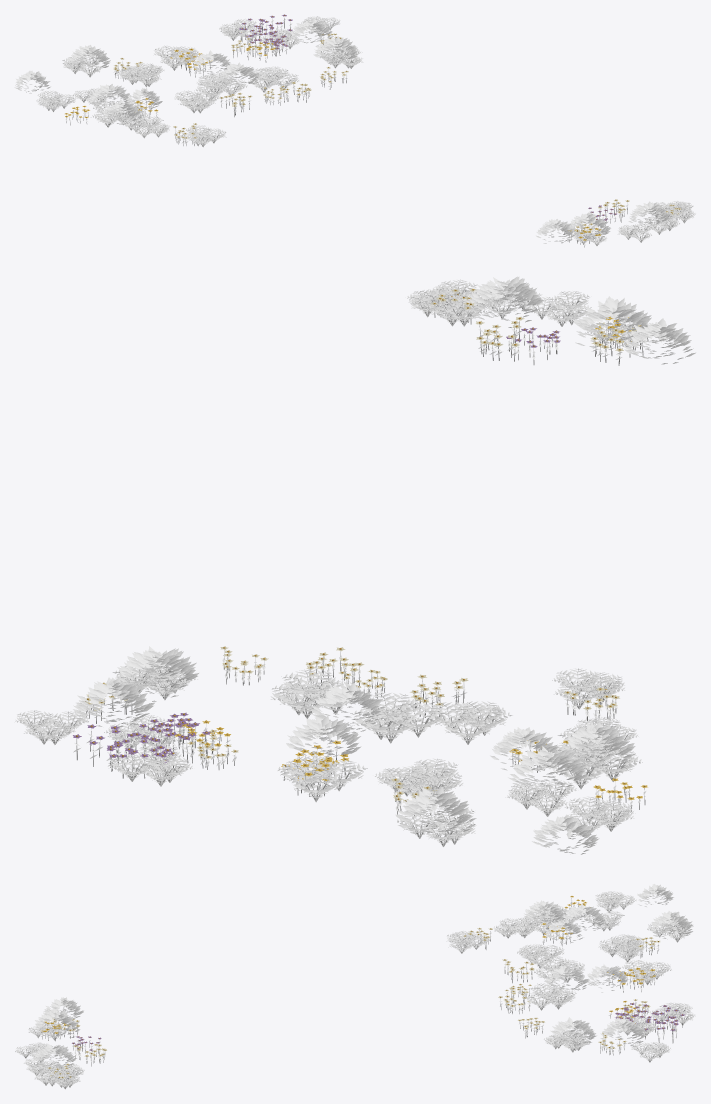
The model's file is SM_NW_Nature_1_3_Flora.fbx.
3 renders of one model, top to bottom at view 1: azimuth 30°, elevation 25°; view 2: azimuth 150°, elevation 25°; view 3: azimuth 270°, elevation 25°, orthographic. The views are drawn at different scales.
Parts seen in each view (by area): view 1: SM_NW_Nature_1_3_Flora; view 2: SM_NW_Nature_1_3_Flora; view 3: SM_NW_Nature_1_3_Flora.
Part boxes in pixels (x1,y1,x2,y2): SM_NW_Nature_1_3_Flora: (14,14,695,247); SM_NW_Nature_1_3_Flora: (15,276,695,854); SM_NW_Nature_1_3_Flora: (15,884,695,1089).
Size of the model in its own units: 1861 by 2745 by 159.
